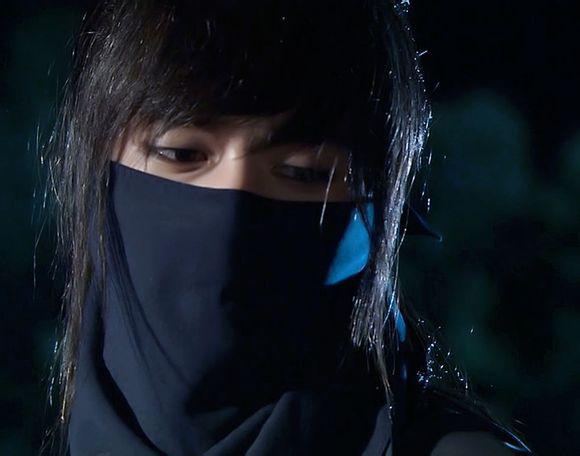OK: (111, 88, 376, 353)
